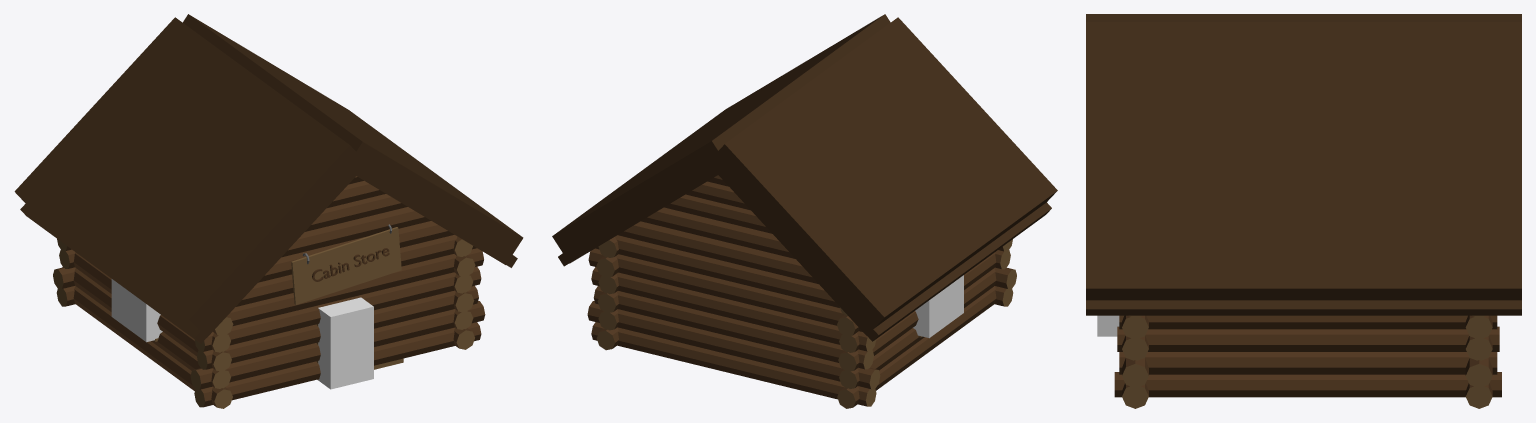
Rendered from CabinShop.fbx.
The picture shows the model from 3 angles, left to right: view 1: azimuth 30°, elevation 25°; view 2: azimuth 150°, elevation 25°; view 3: azimuth 270°, elevation 25°; orthographic projection. The views are drawn at different scales.
Visible parts, largest first — view 1: Cube.004, Cube.003, Cube.012, Cube.002, Cylinder.008, Cylinder.007, Cylinder.010, Cylinder.009, Cylinder.011, Cylinder, Cylinder.015, Cylinder.001 (+9 smaller); view 2: Cube.004, Cube.003, Cylinder.008, Cylinder.007, Cylinder.009, Cylinder.010, Cylinder.011, Cylinder.013, Cylinder.014, Cylinder, Cylinder.015, Cylinder.001 (+6 smaller); view 3: Cube.004, Cylinder, Cylinder.003, Cylinder.001, Cube.003, Cylinder.004, Cylinder.008, Cylinder.010, Cylinder.009, Cylinder.007, Cube.002.
Part boxes in pixels (bbox=[...]): Cube.004: bbox=[14, 14, 523, 337]; Cube.003: bbox=[20, 162, 517, 343]; Cube.012: bbox=[291, 227, 401, 304]; Cube.002: bbox=[318, 297, 373, 389]; Cylinder.008: bbox=[53, 267, 485, 389]; Cylinder.007: bbox=[56, 286, 481, 407]; Cylinder.010: bbox=[57, 239, 481, 351]; Cylinder.009: bbox=[59, 249, 478, 369]; Cylinder.011: bbox=[227, 248, 483, 325]; Cylinder: bbox=[73, 286, 474, 408]; Cylinder.015: bbox=[281, 207, 430, 257]; Cylinder.001: bbox=[62, 267, 473, 388]; Cube.004: bbox=[552, 14, 1057, 335]; Cube.003: bbox=[558, 161, 1051, 341]; Cylinder.008: bbox=[587, 267, 1016, 389]; Cylinder.007: bbox=[591, 286, 1013, 406]; Cylinder.009: bbox=[593, 250, 1010, 369]; Cylinder.010: bbox=[591, 239, 1012, 351]; Cylinder.011: bbox=[588, 248, 862, 331]; Cylinder.013: bbox=[595, 235, 839, 307]; Cylinder.014: bbox=[618, 221, 818, 284]; Cylinder: bbox=[596, 286, 996, 408]; Cylinder.015: bbox=[641, 207, 795, 258]; Cylinder.001: bbox=[598, 268, 996, 388]; Cube.004: bbox=[1086, 14, 1521, 300]; Cylinder: bbox=[1114, 372, 1501, 397]; Cylinder.003: bbox=[1117, 326, 1499, 351]; Cylinder.001: bbox=[1119, 352, 1497, 374]; Cube.003: bbox=[1086, 300, 1521, 315]; Cylinder.004: bbox=[1119, 315, 1497, 329]; Cylinder.008: bbox=[1122, 358, 1492, 388]; Cylinder.010: bbox=[1122, 315, 1492, 339]; Cylinder.009: bbox=[1122, 336, 1492, 360]; Cylinder.007: bbox=[1122, 383, 1492, 408]; Cube.002: bbox=[1097, 315, 1119, 336].
Bounding box in the file's own units: 3572 × 2568 × 3228.
